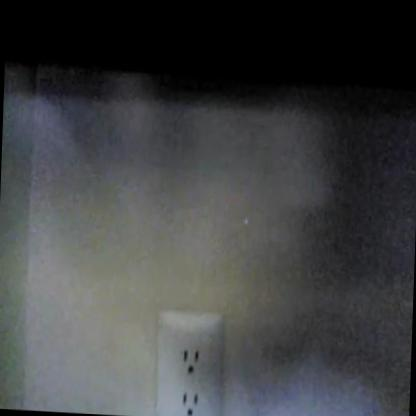OUTLET: (154, 307, 226, 416)
